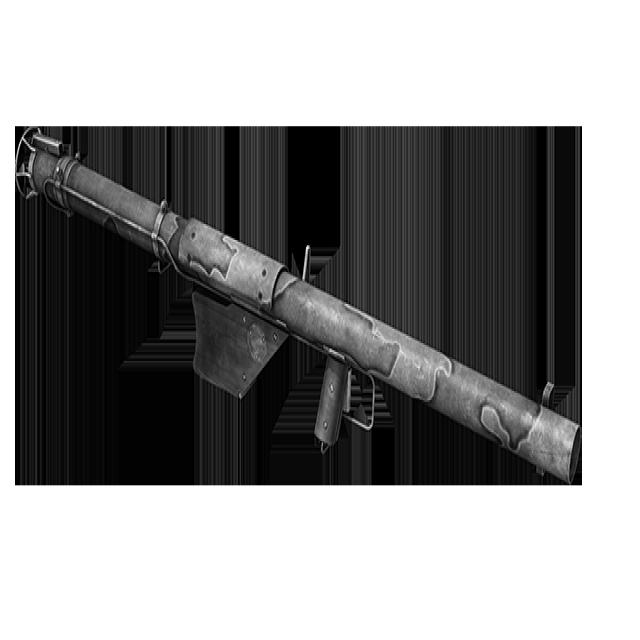Lancher: (15, 83, 582, 558)
